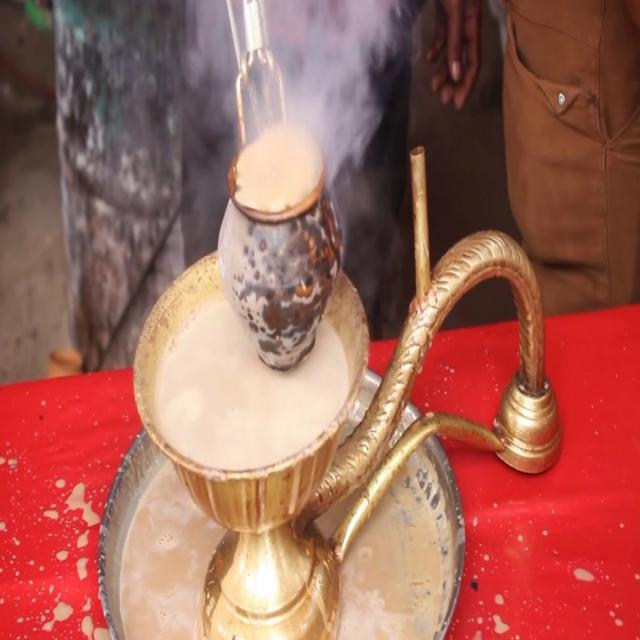Chai: (161, 294, 346, 475), (230, 113, 334, 225)
